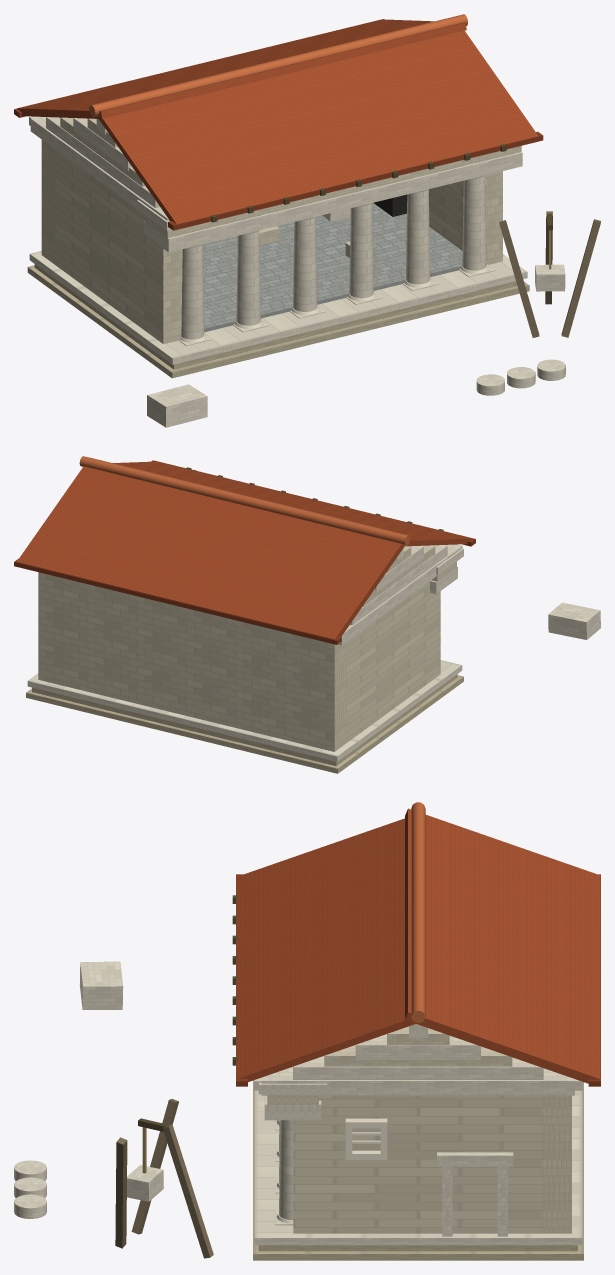
Rendered from pol-1-built.glb.
The picture shows the model from 3 angles, top to bottom: view 1: azimuth 30°, elevation 25°; view 2: azimuth 150°, elevation 25°; view 3: azimuth 270°, elevation 25°; orthographic projection. The views are drawn at different scales.
Bounding box in the file's own units: 25.47 × 11.85 × 24.82.
Materials: 25 (20 with a texture image).
